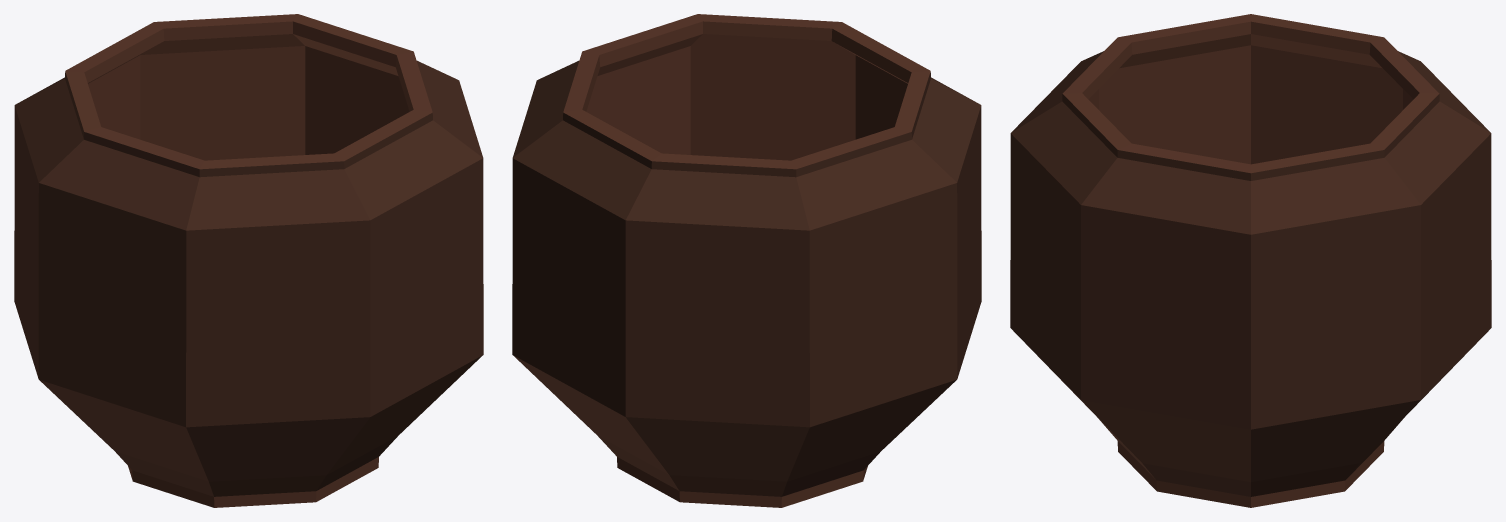
The model's file is Bottle_03.gltf.
3 renders of one model, left to right at view 1: azimuth 30°, elevation 25°; view 2: azimuth 150°, elevation 25°; view 3: azimuth 270°, elevation 25°, orthographic.
Parts seen in each view (by area): view 1: jug; view 2: jug; view 3: jug.
Part boxes in pixels (left/top/right/bottom): jug: left=14, top=14, right=483, bottom=507; jug: left=512, top=14, right=981, bottom=507; jug: left=1010, top=14, right=1491, bottom=507.
Bounding box in the file's own units: 0.2957 × 0.2438 × 0.2957.
1 material, 1 textured.
